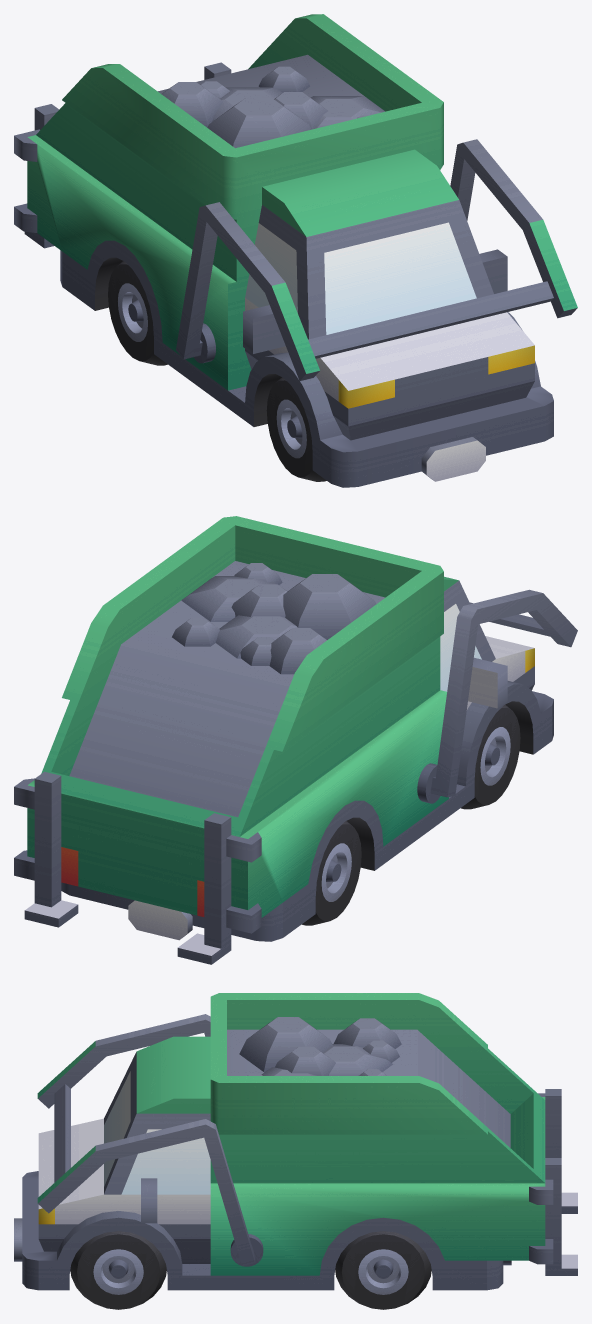
The model's file is garbage-truck.glb.
The picture shows the model from 3 angles, top to bottom: view 1: azimuth 30°, elevation 25°; view 2: azimuth 150°, elevation 25°; view 3: azimuth 270°, elevation 25°; orthographic projection. The views are drawn at different scales.
Visible parts, largest first — view 1: body, arm, trash, wheel-back-right, wheel-front-right; view 2: body, trash, arm, wheel-front-right, wheel-back-right; view 3: body, arm, trash, wheel-front-left, wheel-back-left.
Boxes of the visible parts, x1,y1,x2,y2 form: body: (14, 14, 553, 487); arm: (176, 139, 577, 380); trash: (161, 66, 385, 148); wheel-back-right: (108, 261, 167, 365); wheel-front-right: (266, 377, 326, 481); body: (14, 516, 553, 964); trash: (172, 563, 376, 674); arm: (417, 589, 577, 803); wheel-front-right: (461, 704, 520, 809); wheel-back-right: (302, 821, 361, 925); body: (14, 993, 577, 1290); arm: (37, 1014, 263, 1266); trash: (239, 1017, 401, 1075); wheel-front-left: (70, 1231, 166, 1309); wheel-back-left: (335, 1231, 431, 1309).
Bounding box in the file's own units: 1.6 × 1.6 × 3.45.
1 material, 1 textured.
